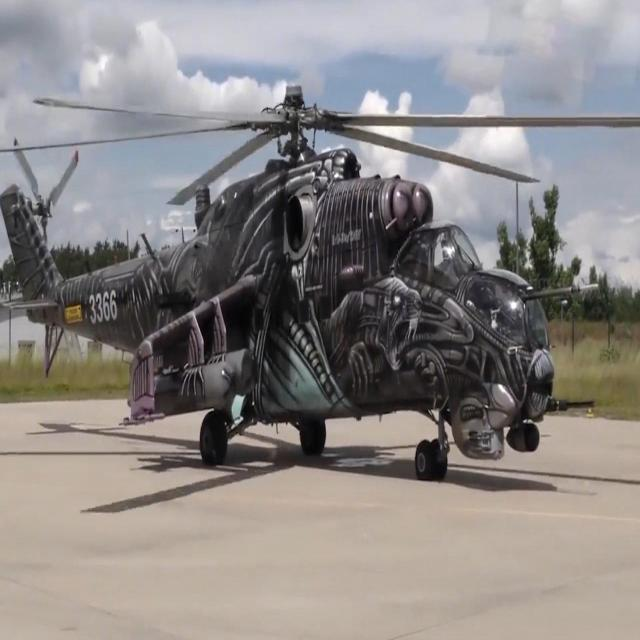MIL_HELO: (0, 65, 637, 492)
